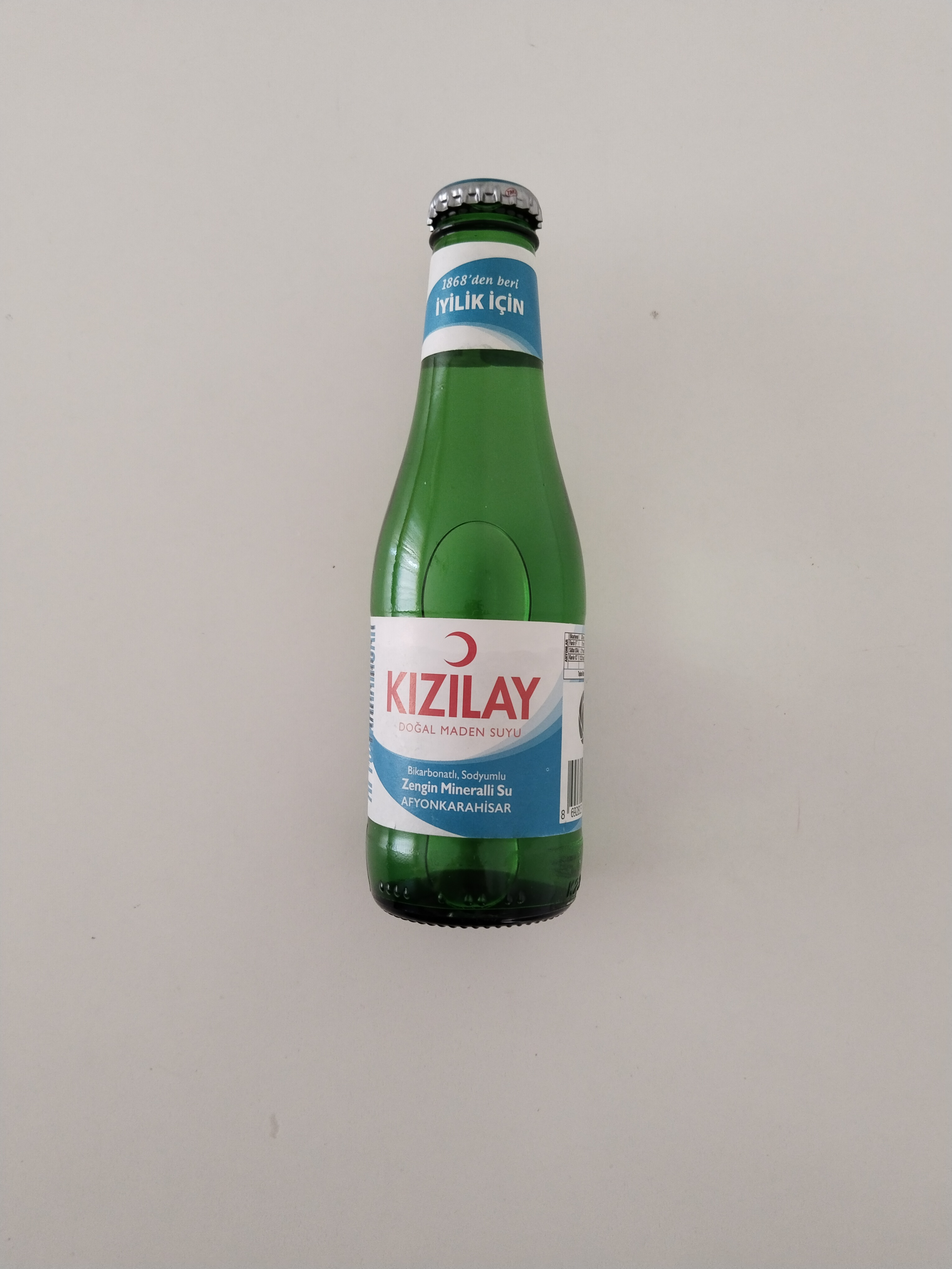kizilay_maden_suyu: (370, 182, 586, 925)
